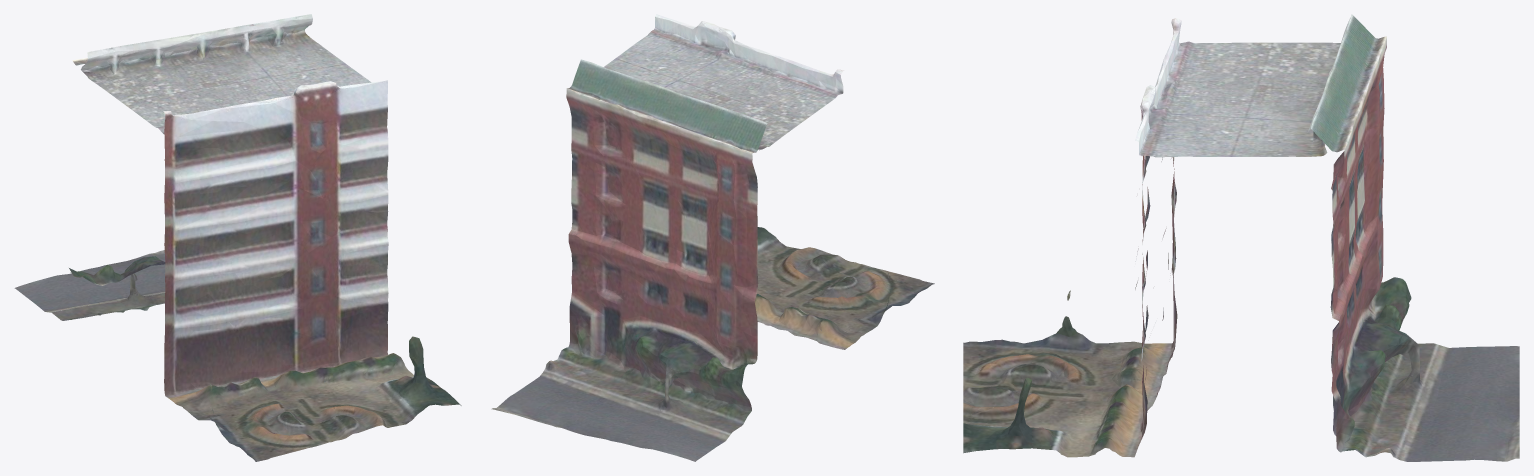
Rendered from Tile__003__003_L21_0000200.glb.
3 views of the same model, side by side, from view 1: azimuth 30°, elevation 25°; view 2: azimuth 150°, elevation 25°; view 3: azimuth 270°, elevation 25° (orthographic). The views are drawn at different scales.
Visible parts, largest first — view 1: root; view 2: root; view 3: root.
Boxes of the visible parts, box(x1,y1,x2,y2) form: root: box(14, 14, 461, 461); root: box(491, 14, 934, 461); root: box(963, 14, 1519, 461).
Bounding box in the file's own units: 12.63 × 17.07 × 25.63.
Materials: 1 (1 with a texture image).
